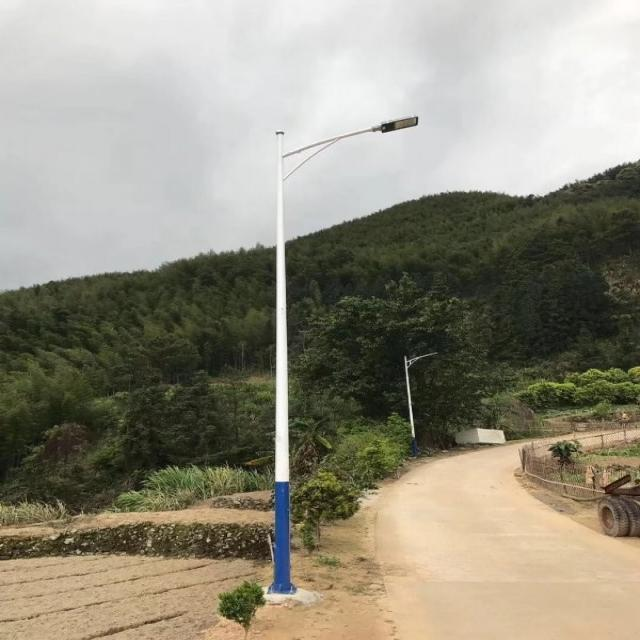pole: (266, 187, 304, 590), (403, 368, 417, 450)
